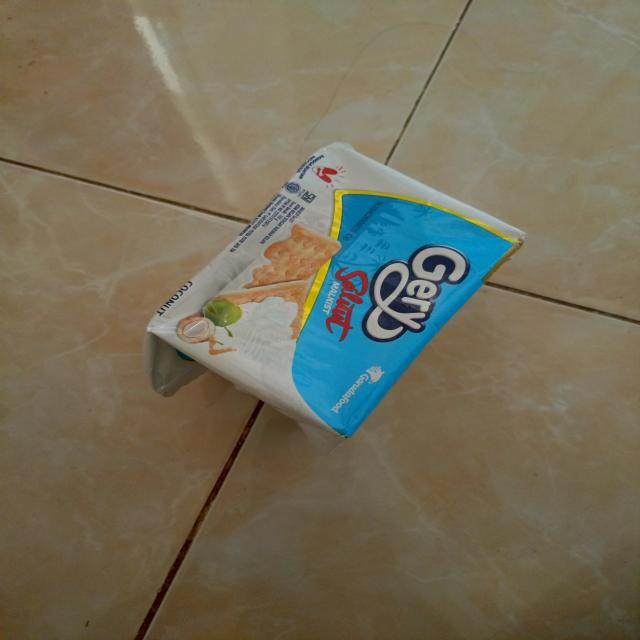gery-salut-coconut: (142, 139, 528, 457)
